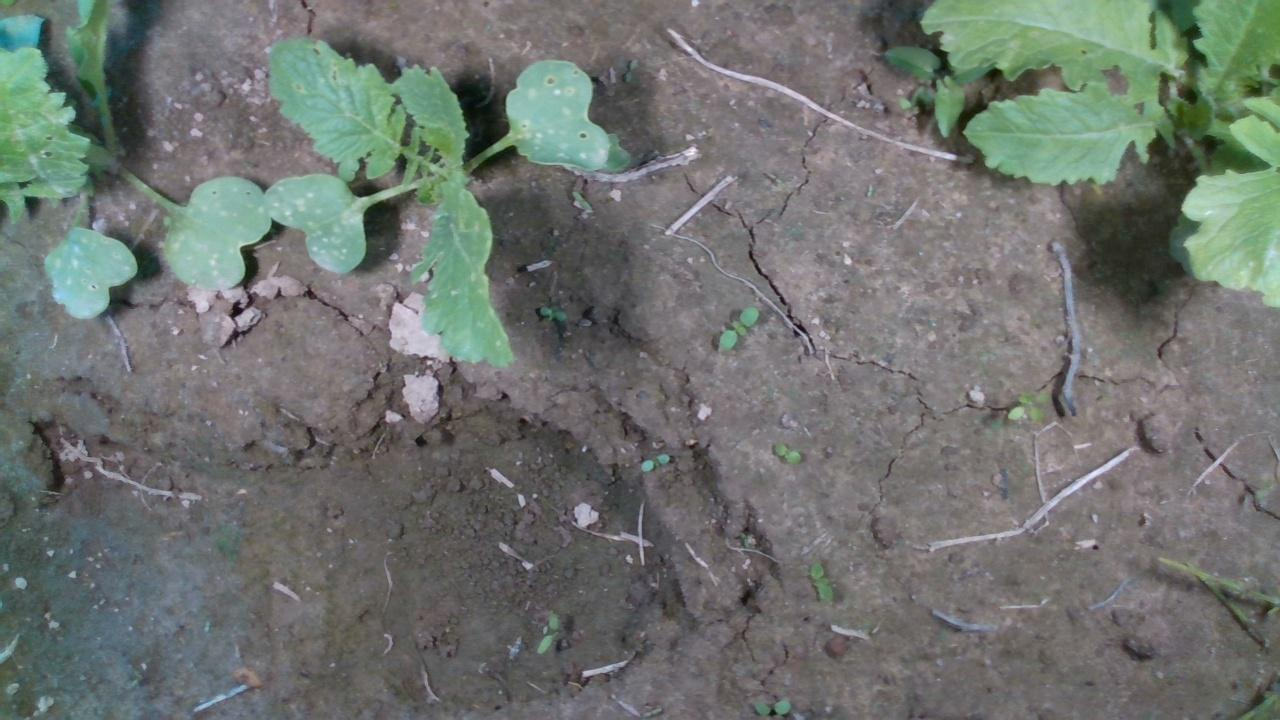weed: (715, 304, 758, 351), (535, 610, 559, 655), (808, 561, 834, 602), (771, 441, 802, 465), (750, 698, 791, 716), (638, 451, 670, 473), (536, 304, 567, 322), (569, 190, 593, 213)
